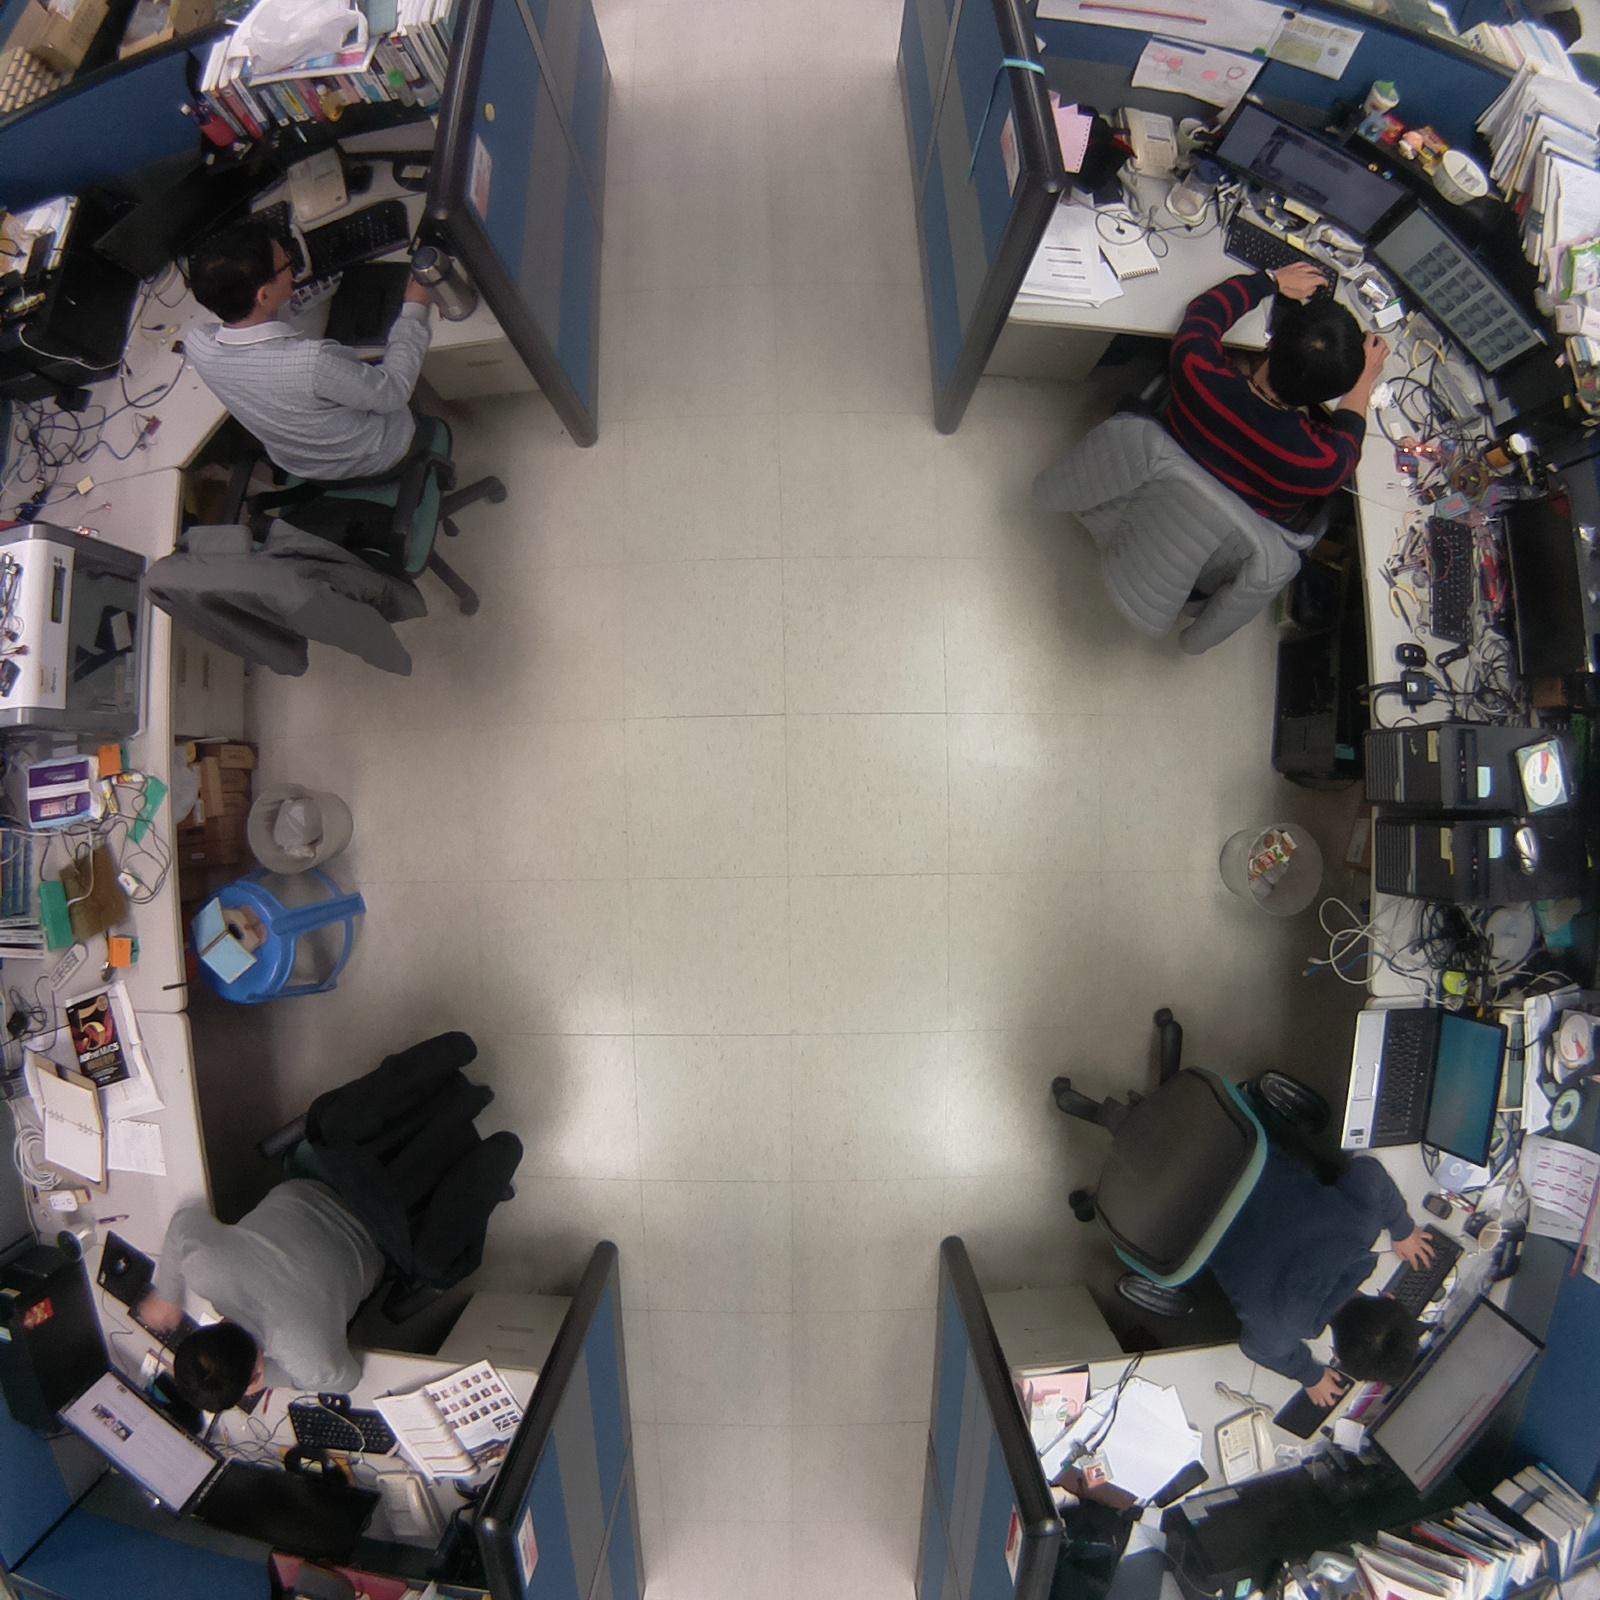head: (180, 208, 300, 319), (1257, 293, 1372, 406), (166, 1314, 266, 1423), (1325, 1293, 1427, 1389)
sitting: (127, 206, 519, 706), (122, 988, 542, 1427), (1022, 993, 1440, 1406), (1009, 258, 1404, 670)
